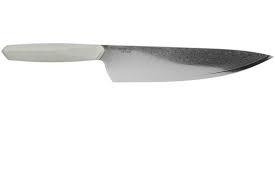Knife: (1, 42, 273, 82)
